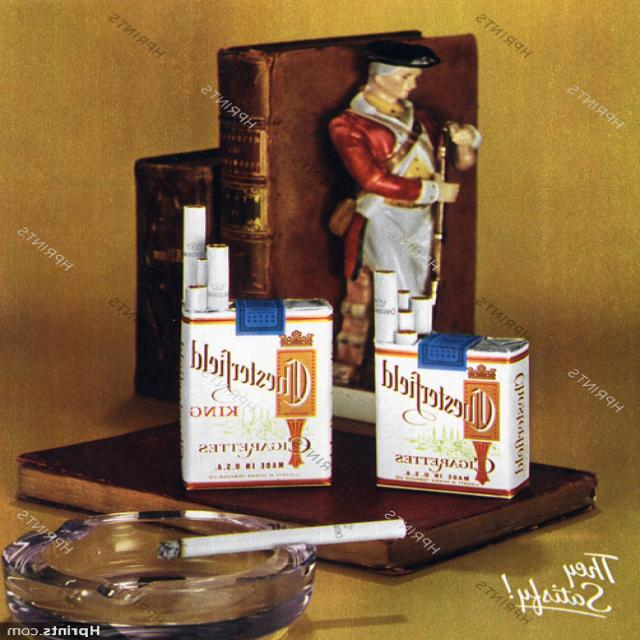chesterfield: (180, 304, 331, 488), (370, 335, 530, 493)
